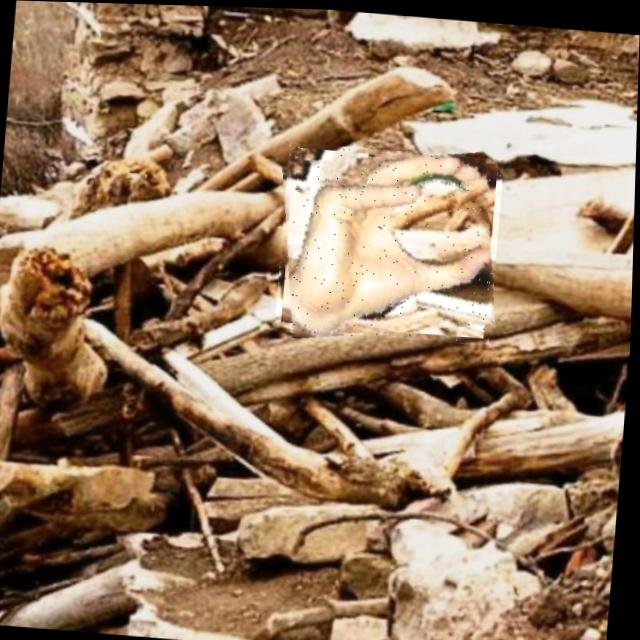Person in Rubble: (276, 141, 505, 345)
